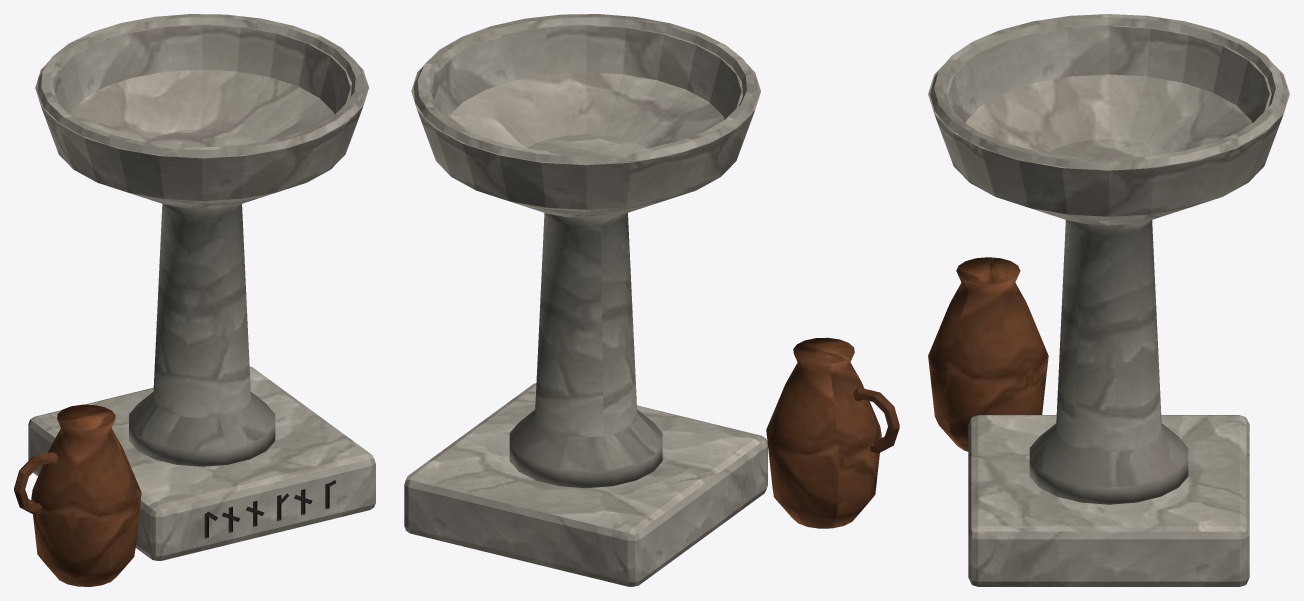
File: qb_wash_basin.glb
The picture shows the model from 3 angles, left to right: view 1: azimuth 30°, elevation 25°; view 2: azimuth 150°, elevation 25°; view 3: azimuth 270°, elevation 25°; orthographic projection. The views are drawn at different scales.
Parts seen in each view (by area): view 1: model; view 2: model; view 3: model.
Part boxes in pixels (box(x1,y1,x2,y2)): model: box(14, 14, 375, 586); model: box(404, 14, 899, 586); model: box(928, 14, 1289, 586).
Bounding box in the file's own units: 0.725 × 0.7304 × 0.54.
Materials: 5 (4 with a texture image).
